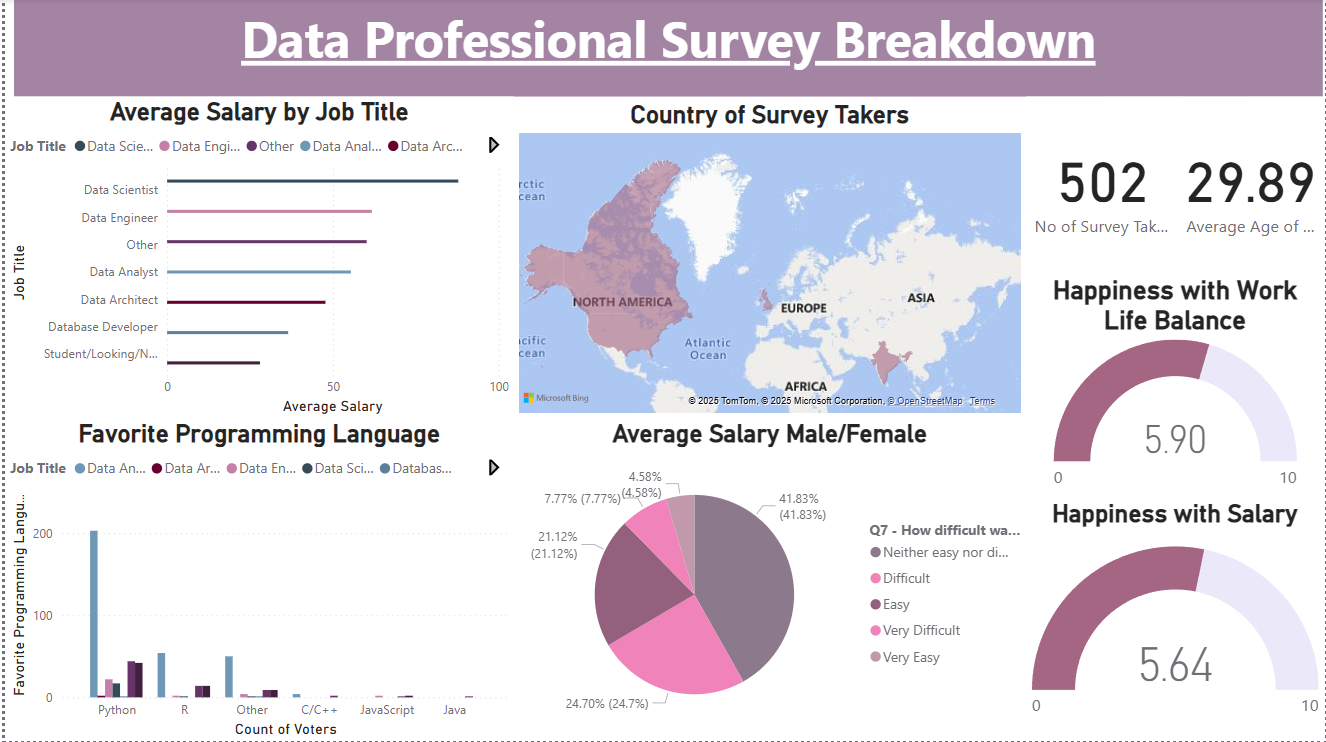

The page's visual inventory and layout, read from the dashboard file:
{"tool":"powerbi","page":{"name":"Page 1","canvas":[1280,720],"ordinal":0},"visuals":[{"type":"textbox","box":[9.4,0,1269.9,94.5],"z":0},{"type":"card","fields":{"Values":["Count(Data Professional Survey.Unique ID)"]},"box":[991.1,94.2,145.1,173.3],"z":1000},{"type":"card","fields":{"Values":["Avg(Data Professional Survey.Q10 - Current Age)"]},"box":[1136.2,94.2,143.2,173.3],"z":2000},{"type":"clusteredBarChart","title":"Average Salary by Job Title","fields":{"Category":["Data Professional Survey.Q1 - Which Title Best Fits your Current Role?.1"],"Y":["Avg(Data Professional Survey.Average Salary)"],"Series":["Data Professional Survey.Q1 - Which Title Best Fits your Current Role?.1"]},"box":[0,94.2,493.7,312.8],"z":3000},{"type":"clusteredColumnChart","title":"Favorite Programming Language","fields":{"Category":["Data Professional Survey.Q5 - Favorite Programming Language.1.1"],"Y":["CountNonNull(Data Professional Survey.Unique ID)"],"Series":["Data Professional Survey.Q1 - Which Title Best Fits your Current Role?.1"]},"box":[0,407,493.7,312.8],"z":4000},{"type":"filledMap","title":"Country of Survey Takers","fields":{"Category":["Data Professional Survey.Q11 - Which Country do you live in?.1"]},"box":[493.7,98,497.4,309],"z":5000},{"type":"gauge","title":"Happiness with Work Life Balance","fields":{"Y":["Avg(Data Professional Survey.Q6 - How Happy are you in your Current Position with the following? (Coworkers))"],"MinValue":["Min(Data Professional Survey.Q6 - How Happy are you in your Current Position with the following? (Coworkers))1"],"MaxValue":["Max(Data Professional Survey.Q6 - How Happy are you in your Current Position with the following? (Coworkers))2"]},"box":[991.1,267.6,288.3,216.7],"z":6000},{"type":"gauge","title":"Happiness with Salary","fields":{"Y":["Avg(Data Professional Survey.Q6 - How Happy are you in your Current Position with the following? (Learning New Things))"],"MinValue":["Min(Data Professional Survey.Q6 - How Happy are you in your Current Position with the following? (Learning New Things))1"],"MaxValue":["Max(Data Professional Survey.Q6 - How Happy are you in your Current Position with the following? (Learning New Things))2"]},"box":[991.1,484.2,288.3,235.5],"z":7000},{"type":"pieChart","title":"Average Salary Male/Female","fields":{"Category":["Data Professional Survey.Q7 - How difficult was it for you to break into Data?"],"Y":["CountNonNull(Data Professional Survey.Q7 - How difficult was it for you to break into Data?)"]},"box":[493.7,407,497.4,312.8],"z":8000}]}

Visuals, with their boxes in screenshot pixels (x1, y1, x2, y2), scaled from the page's 1280x720 canvas onto the 1326x742 screenshot:
textbox: <bbox>10, 0, 1325, 97</bbox>
card - Count(Data Professional Survey.Unique ID): <bbox>1027, 97, 1177, 276</bbox>
card - Avg(Data Professional Survey.Q10 - Current Age): <bbox>1177, 97, 1325, 276</bbox>
"Average Salary by Job Title" clusteredBarChart: <bbox>0, 97, 511, 419</bbox>
"Favorite Programming Language" clusteredColumnChart: <bbox>0, 419, 511, 741</bbox>
"Country of Survey Takers" filledMap: <bbox>511, 101, 1027, 419</bbox>
"Happiness with Work Life Balance" gauge: <bbox>1027, 276, 1325, 499</bbox>
"Happiness with Salary" gauge: <bbox>1027, 499, 1325, 741</bbox>
"Average Salary Male/Female" pieChart: <bbox>511, 419, 1027, 741</bbox>
